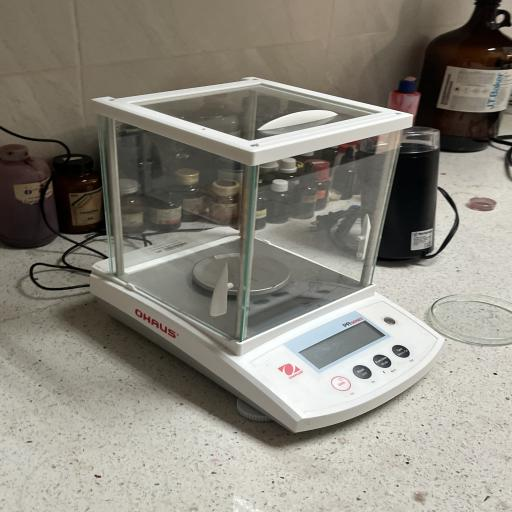Balanza_Analitica_Ohaus: (71, 73, 456, 443)
